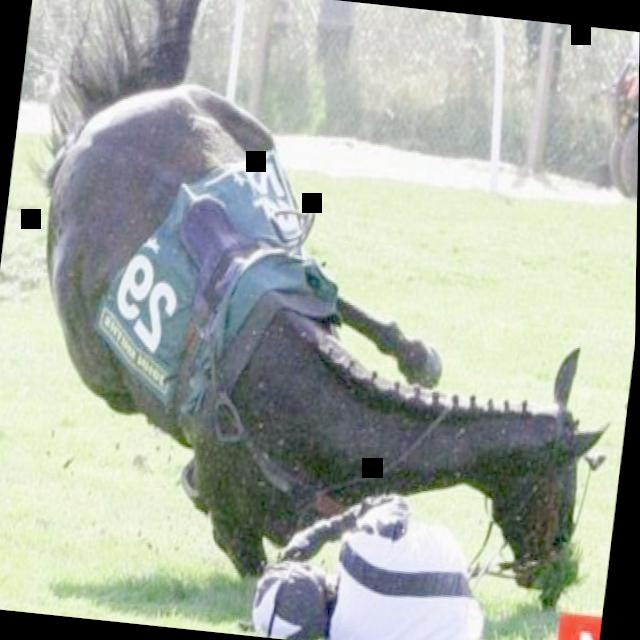Fall-Detected: (227, 453, 506, 640)
